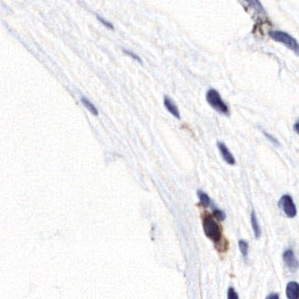Lymphocyte: (201, 214, 222, 246)
